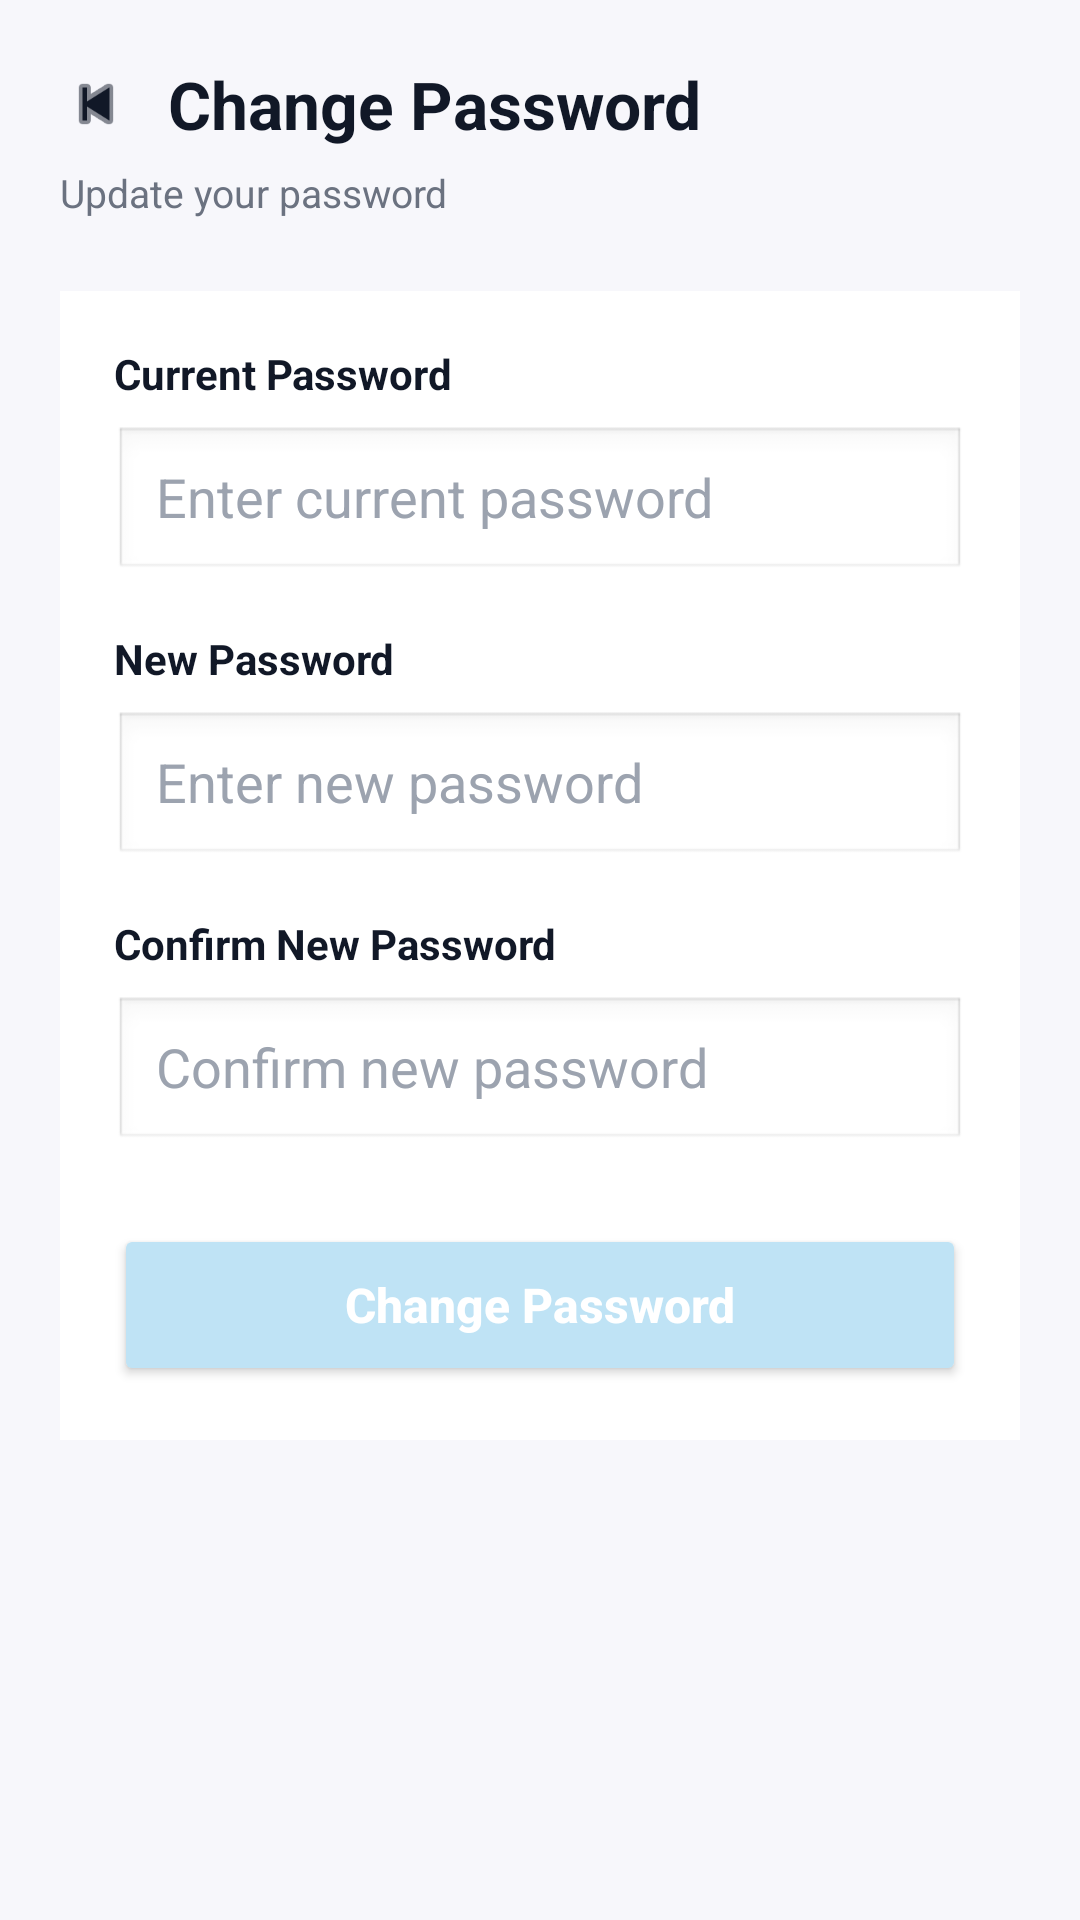

Icon click points for this 1080px×1920px phone screenshot, format point (x, y):
previous: point (96, 104)
